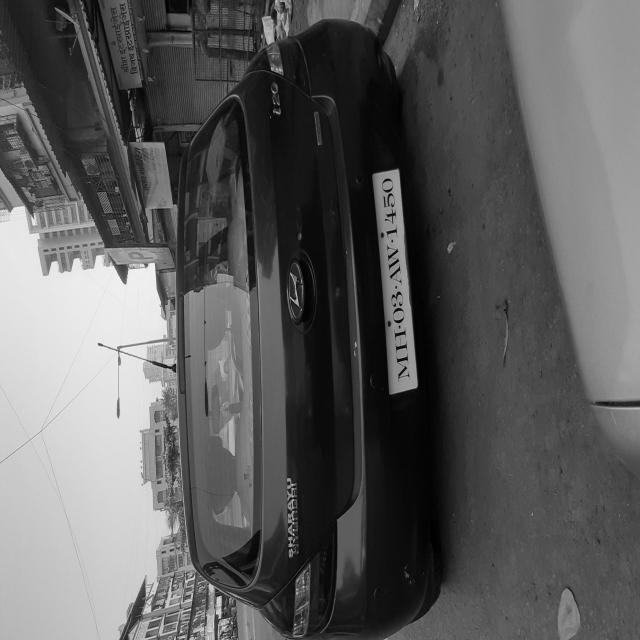car: (0, 346, 308, 640)
